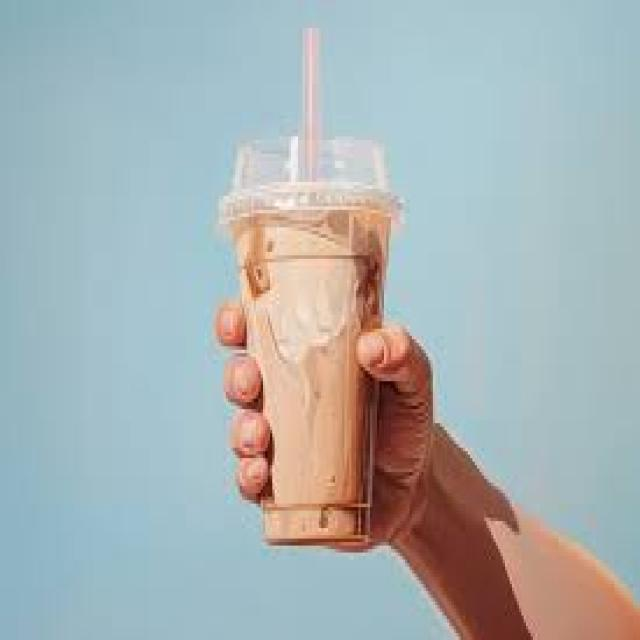bottle: (220, 137, 401, 546)
